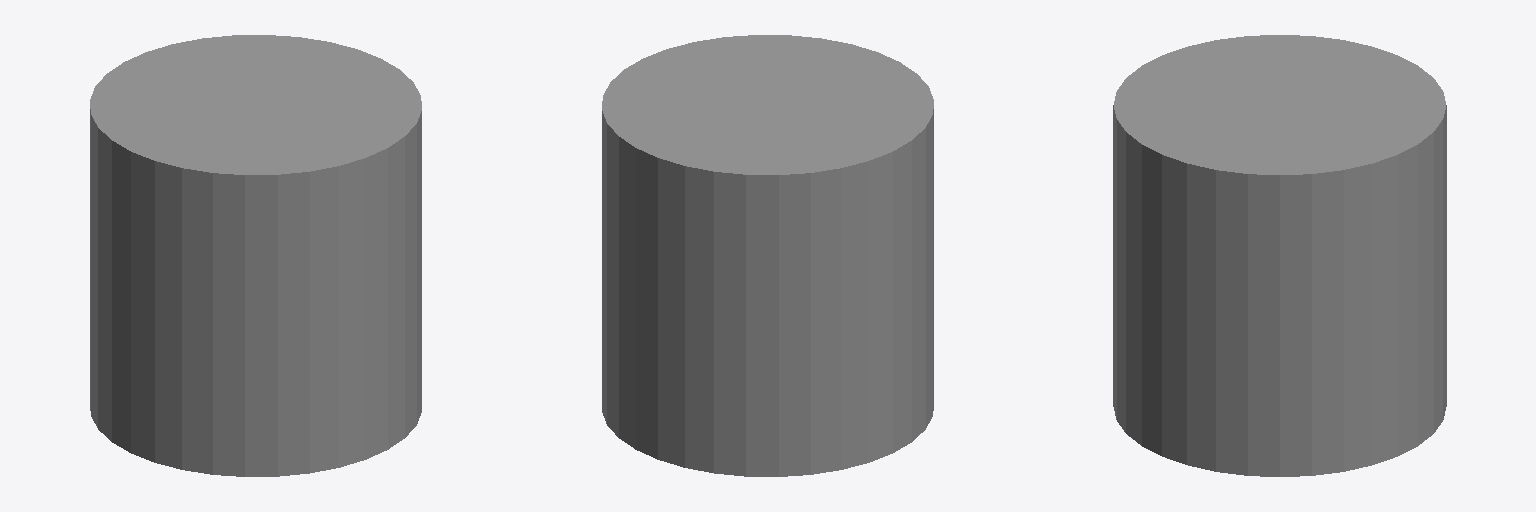
File: uramaki.obj
3 renders of one model, left to right at view 1: azimuth 30°, elevation 25°; view 2: azimuth 150°, elevation 25°; view 3: azimuth 270°, elevation 25°, orthographic.
Visible parts, largest first — view 1: Cylinder_Cylinder.002; view 2: Cylinder_Cylinder.002; view 3: Cylinder_Cylinder.002.
Part boxes in pixels (x1,y1,x2,y2): Cylinder_Cylinder.002: (90, 35, 421, 476); Cylinder_Cylinder.002: (602, 35, 933, 476); Cylinder_Cylinder.002: (1113, 35, 1446, 476).
Size of the model in its own units: 0.2572 by 0.2572 by 0.2572.